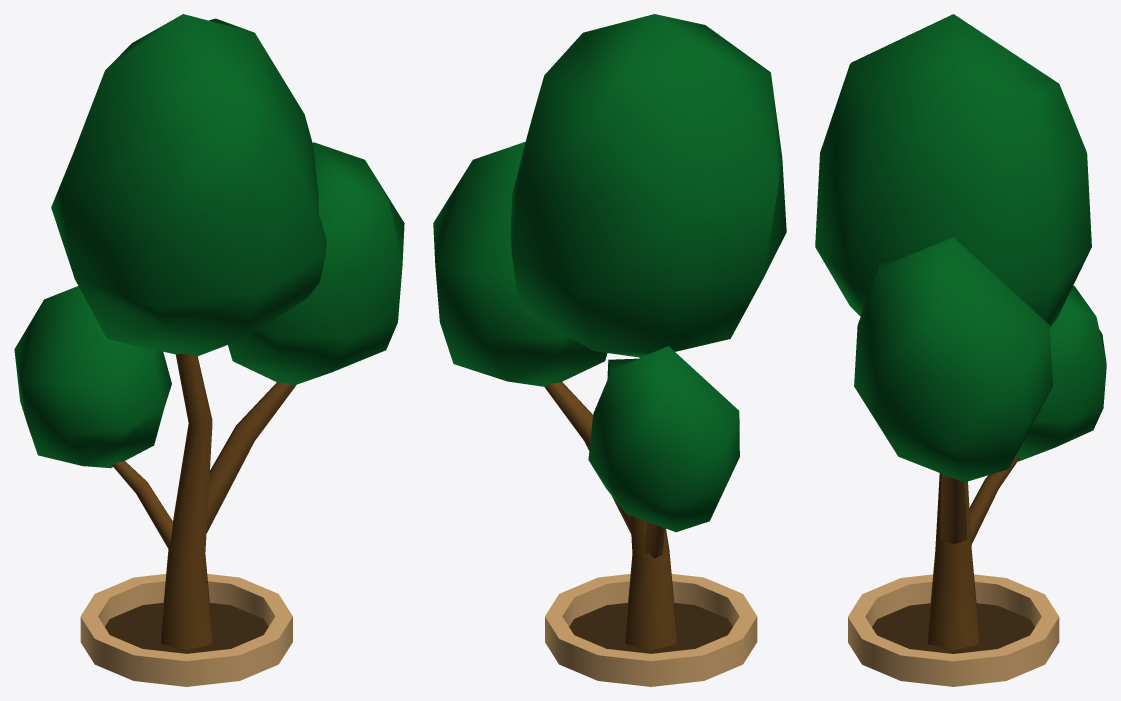
Rendered from trees_6.fbx.
The picture shows the model from 3 angles, left to right: view 1: azimuth 30°, elevation 25°; view 2: azimuth 150°, elevation 25°; view 3: azimuth 270°, elevation 25°; orthographic projection.
Parts seen in each view (by area): view 1: trees_6; view 2: trees_6; view 3: trees_6.
Boxes of the visible parts, box(x1,y1,x2,y2) form: trees_6: box(14, 14, 404, 686); trees_6: box(433, 14, 786, 686); trees_6: box(815, 14, 1106, 686).
Size of the model in its own units: 198 by 345 by 146.
Materials: 1 (1 with a texture image).
